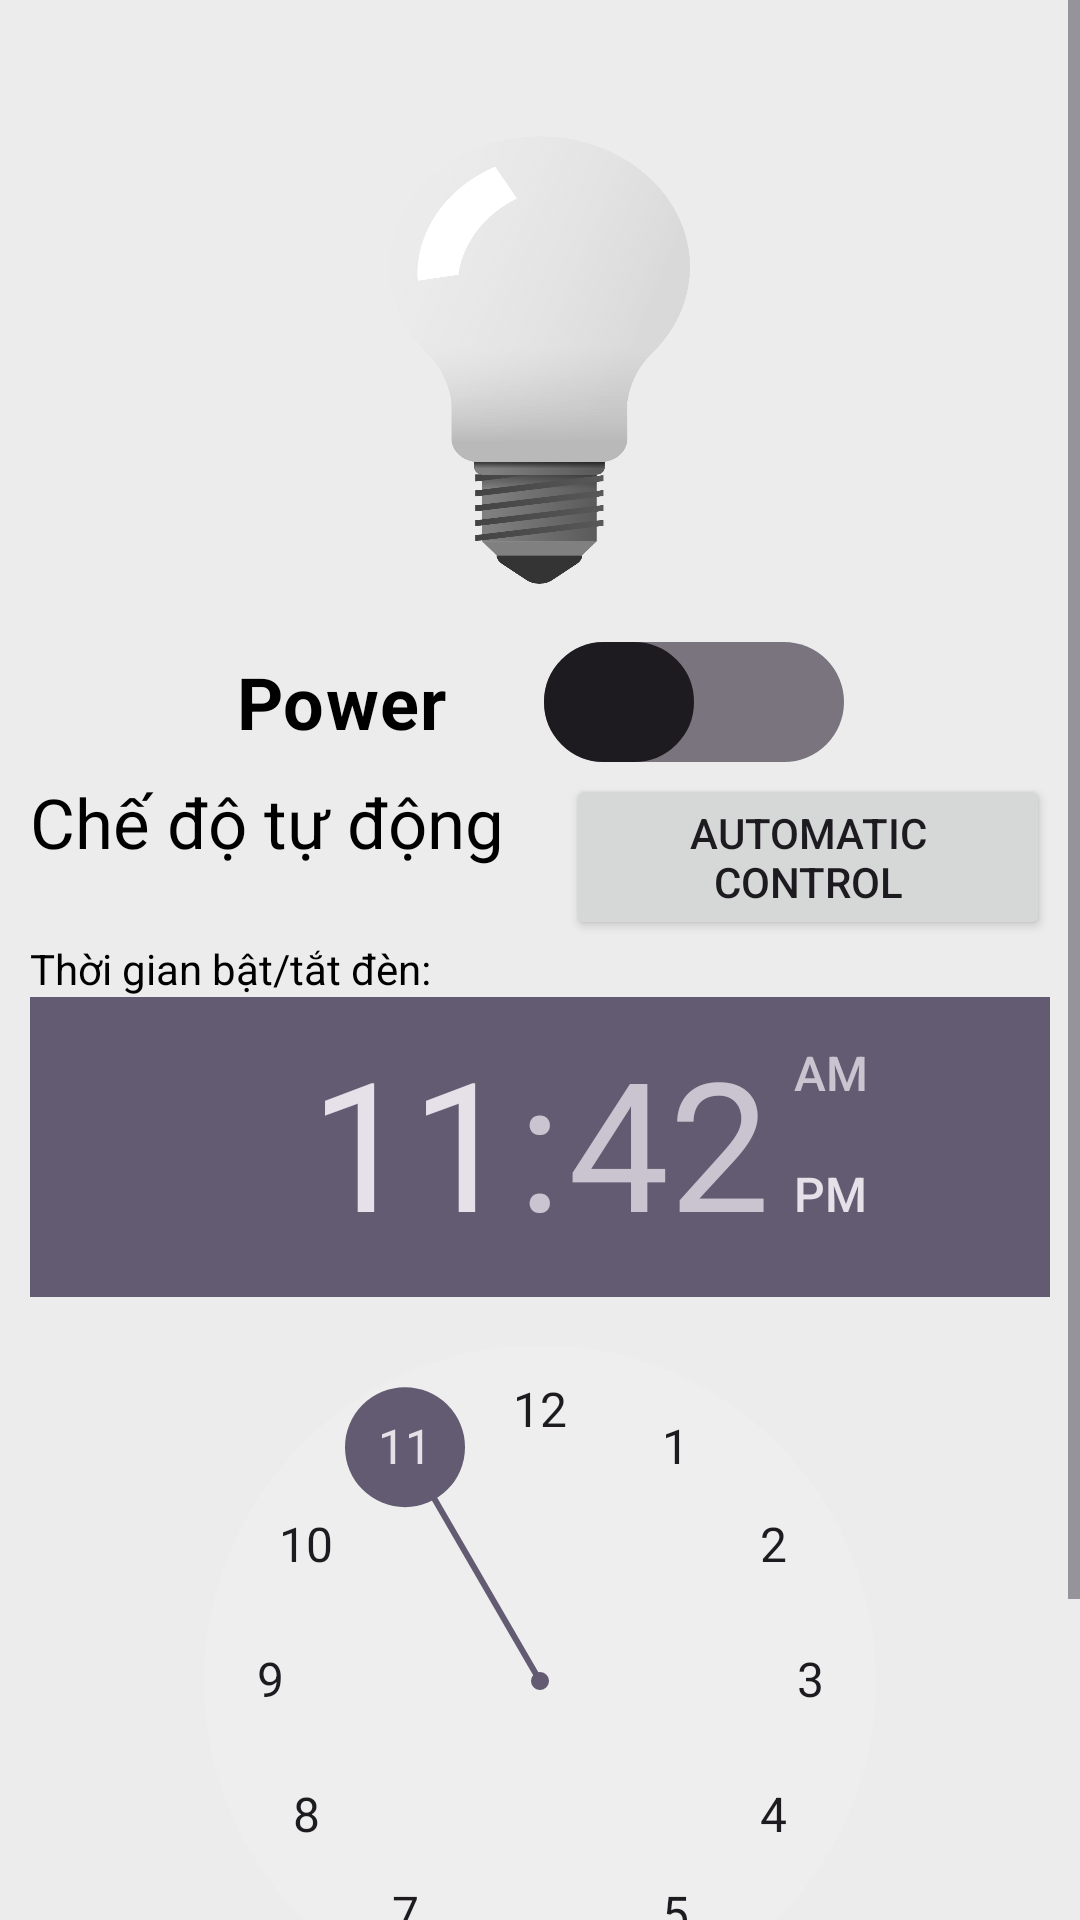

Named icons in this screenshot (1080×1920) and their centers, point (x, y):
off: point (545, 476)
